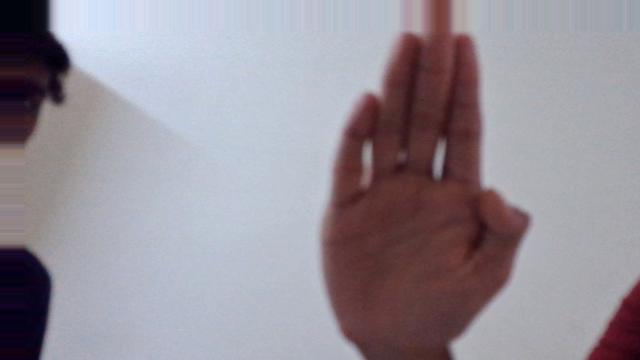Back: (319, 35, 532, 345)
